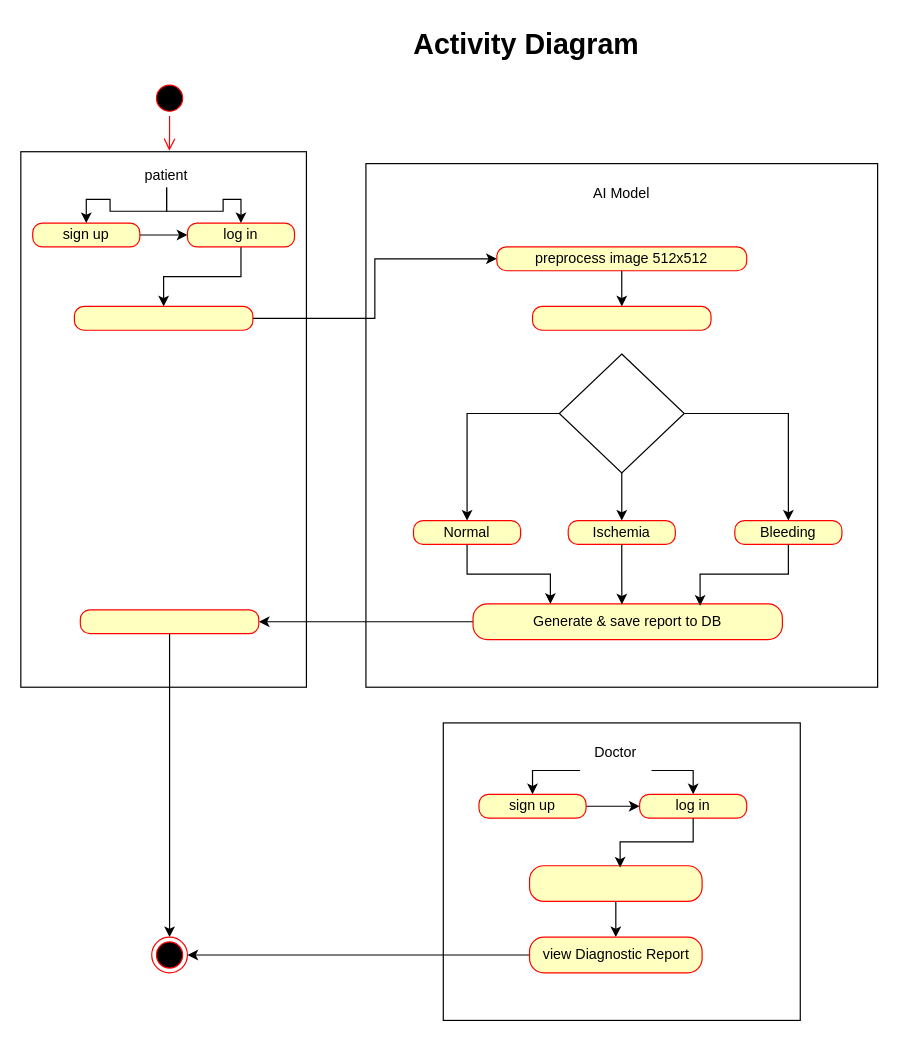
Image size: 898x1041. Some labels were removed from this diagram. The box of each missing label's shape, as (x1, y1, x2, y2) in pixels:
Analyze via ResNet50: (531, 305, 711, 330)
predict condittion: (558, 353, 684, 473)
search patient records: (528, 865, 702, 901)
upload scan image: (73, 305, 253, 330)
view personal Report: (79, 609, 259, 634)
